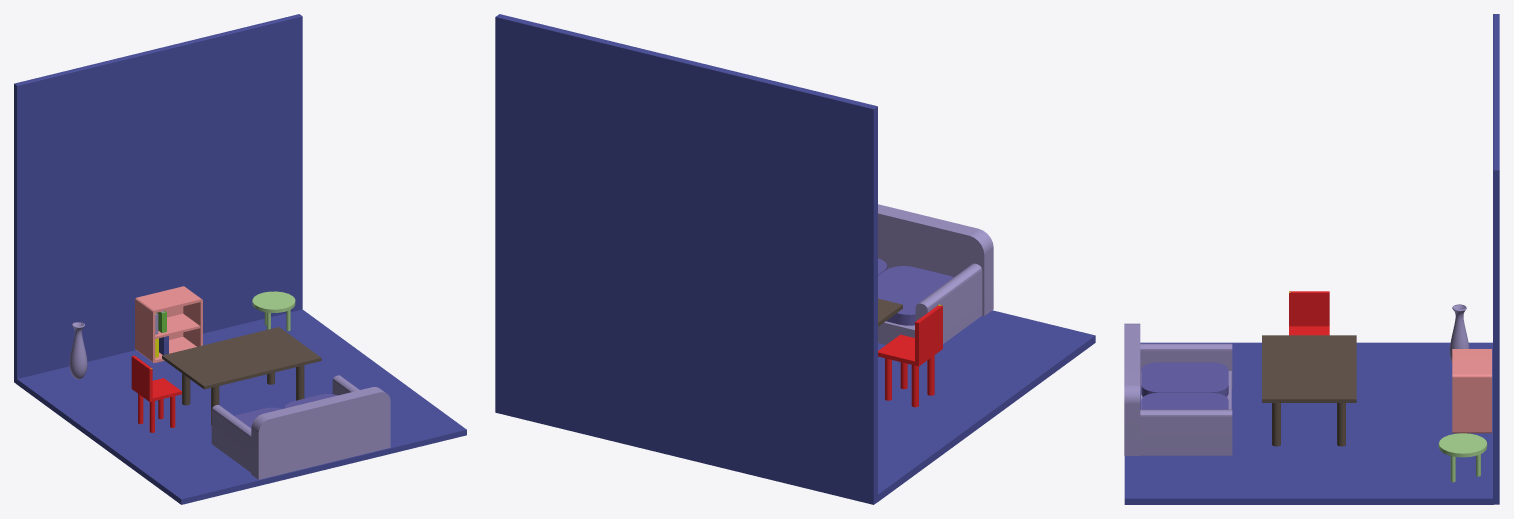
The model's file is Scene1_Sketchfab.fbx.
3 renders of one model, left to right at view 1: azimuth 30°, elevation 25°; view 2: azimuth 150°, elevation 25°; view 3: azimuth 270°, elevation 25°, orthographic. The views are drawn at different scales.
Parts seen in each view (by area): view 1: wall, floor, Unit5_LabScene:back, table, frame, Unit5_LabScene:arm_left1, unit7_stool:seat, unti7_chair:back, unit6_vaseProp:revolvedSurface1, shelf; view 2: wall, floor, Unit5_LabScene:back, Unit5_LabScene:arm_left1, Unit5_LabScene:cushion2, unti7_chair:back, unti7_chair:seat; view 3: floor, table, Unit5_LabScene:arm_left, wall, frame, Unit5_LabScene:cushion2, Unit5_LabScene:back, Unit5_LabScene:arm_left1, Unit5_LabScene:cushion1, unti7_chair:back, unit7_stool:seat, unit6_vaseProp:revolvedSurface1.
Boxes of the visible parts, x1,y1,x2,y2 form: wall: [14, 14, 302, 383]; floor: [16, 309, 466, 504]; Unit5_LabScene:back: [251, 387, 390, 479]; table: [162, 327, 321, 389]; frame: [135, 286, 202, 362]; Unit5_LabScene:arm_left1: [211, 405, 251, 472]; unit7_stool:seat: [252, 291, 295, 312]; unti7_chair:back: [131, 355, 152, 401]; unit6_vaseProp:revolvedSurface1: [69, 322, 87, 379]; shelf: [155, 313, 200, 338]; wall: [495, 14, 877, 504]; floor: [877, 310, 1095, 502]; Unit5_LabScene:back: [878, 204, 993, 315]; Unit5_LabScene:arm_left1: [915, 263, 982, 343]; Unit5_LabScene:cushion2: [878, 266, 953, 325]; unti7_chair:back: [915, 304, 942, 366]; unti7_chair:seat: [878, 334, 917, 366]; floor: [1124, 342, 1493, 504]; table: [1262, 335, 1356, 402]; Unit5_LabScene:arm_left: [1140, 409, 1232, 455]; wall: [1493, 14, 1499, 504]; frame: [1452, 349, 1491, 433]; Unit5_LabScene:cushion2: [1141, 362, 1228, 396]; Unit5_LabScene:back: [1124, 323, 1140, 455]; Unit5_LabScene:arm_left1: [1140, 343, 1232, 389]; Unit5_LabScene:cushion1: [1141, 392, 1228, 409]; unti7_chair:back: [1289, 291, 1329, 326]; unit7_stool:seat: [1438, 433, 1487, 457]; unit6_vaseProp:revolvedSurface1: [1449, 304, 1469, 362].
Size of the model in its own units: 7 by 7 by 7.11.
1 material, 1 textured.
